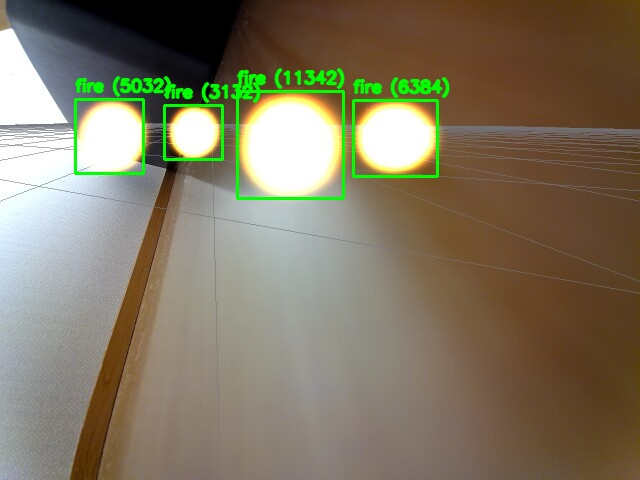fire: (237, 91, 343, 198), (353, 100, 437, 176), (75, 99, 143, 173), (164, 105, 222, 159)
